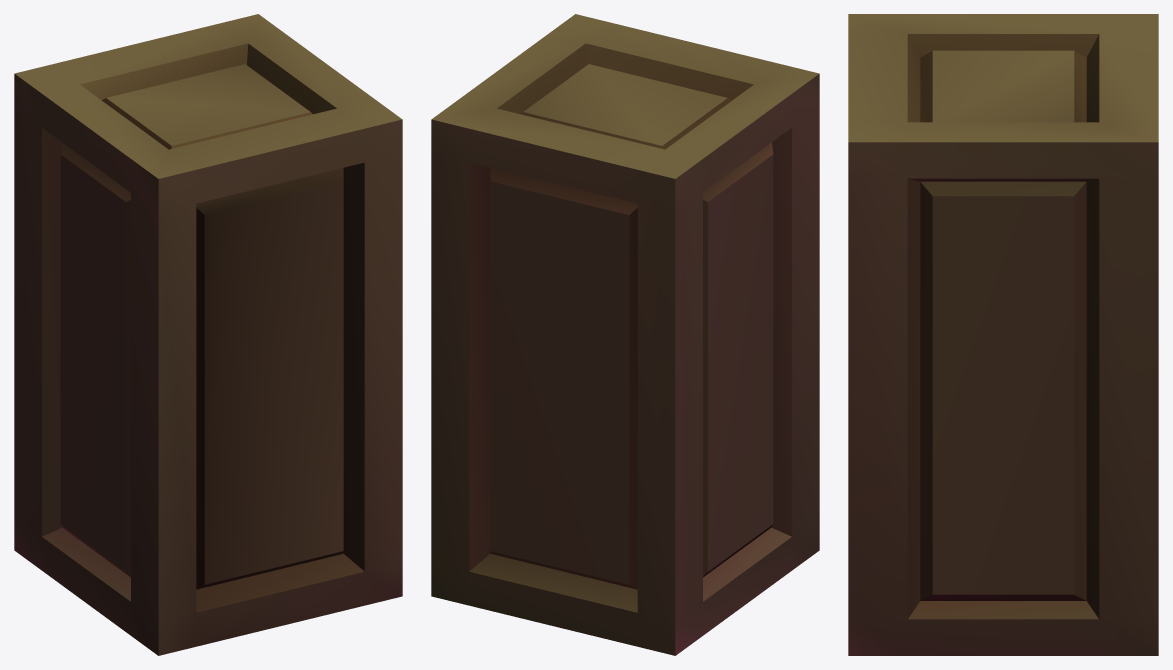
File: tall_crate.FBX
3 views of the same model, side by side, from view 1: azimuth 30°, elevation 25°; view 2: azimuth 150°, elevation 25°; view 3: azimuth 270°, elevation 25° (orthographic). The views are drawn at different scales.
Visible parts, largest first — view 1: tall crate; view 2: tall crate; view 3: tall crate.
Boxes of the visible parts, box(x1,y1,x2,y2) form: tall crate: box(14, 14, 402, 655); tall crate: box(431, 14, 819, 655); tall crate: box(848, 14, 1158, 655).
Size of the model in its own units: 1.18 by 2.2 by 1.2.
